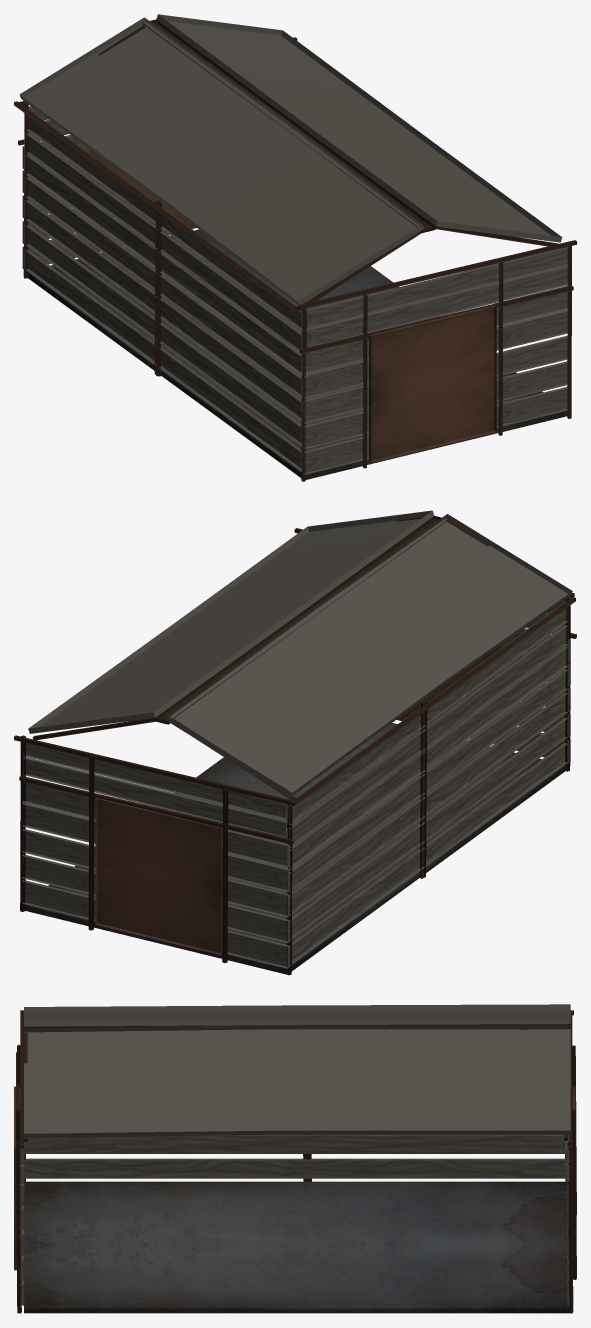
The model's file is 1_2_SHELL.fbx.
The picture shows the model from 3 angles, top to bottom: view 1: azimuth 30°, elevation 25°; view 2: azimuth 150°, elevation 25°; view 3: azimuth 270°, elevation 25°; orthographic projection. The views are drawn at different scales.
Visible parts, largest first — view 1: Roof1, Roof11, D0oor4, Flor, WoodPlank052, WoodPlank035, WoodPlank025, WoodPlank01, WoodPlank024, WoodPlank034, WoodPlank040, WoodPlank049 (+22 smaller); view 2: Roof1, Roof11, D0oor2, Flor, WoodPlank052, WoodPlank025, WoodPlank035, WoodPlank024, WoodPlank01, WoodPlank034, WoodPlank038, WoodPlank036 (+23 smaller); view 3: Flor, Roof11, WoodPlank01, Roof1, WoodPlank024, SupportBeam9, SupportBeam54, SupportBeam55, SupportBeam58, SupportBeam5, D0oor4, SupportBeam53.
Part boxes in pixels (left/top/right/bottom): Roof1: left=19, top=17, right=424, bottom=304; Roof11: left=156, top=14, right=562, bottom=242; D0oor4: left=369, top=305, right=496, bottom=462; Flor: left=28, top=229, right=567, bottom=479; WoodPlank052: left=24, top=176, right=302, bottom=398; WoodPlank035: left=24, top=132, right=302, bottom=354; WoodPlank025: left=24, top=200, right=302, bottom=421; WoodPlank01: left=24, top=250, right=301, bottom=471; WoodPlank024: left=24, top=225, right=301, bottom=446; WoodPlank034: left=24, top=154, right=302, bottom=375; WoodPlank040: left=306, top=247, right=567, bottom=329; WoodPlank049: left=306, top=266, right=567, bottom=347; Roof1: left=165, top=514, right=572, bottom=797; Roof11: left=28, top=510, right=434, bottom=733; D0oor2: left=95, top=797, right=222, bottom=955; Flor: left=22, top=723, right=565, bottom=974; WoodPlank052: left=286, top=669, right=568, bottom=892; WoodPlank025: left=286, top=692, right=568, bottom=915; WoodPlank035: left=286, top=625, right=568, bottom=848; WoodPlank024: left=289, top=717, right=568, bottom=940; WoodPlank01: left=289, top=743, right=568, bottom=965; WoodPlank034: left=286, top=647, right=568, bottom=869; WoodPlank038: left=23, top=757, right=286, bottom=837; WoodPlank036: left=286, top=602, right=568, bottom=825; Flor: left=24, top=1181, right=569, bottom=1313; Roof11: left=24, top=1025, right=570, bottom=1137; WoodPlank01: left=24, top=1158, right=565, bottom=1178; Roof1: left=24, top=1004, right=570, bottom=1026; WoodPlank024: left=24, top=1134, right=565, bottom=1153; SupportBeam9: left=27, top=1023, right=571, bottom=1032; SupportBeam54: left=16, top=1141, right=21, bottom=1313; SupportBeam55: left=567, top=1141, right=573, bottom=1313; SupportBeam58: left=572, top=1109, right=576, bottom=1279; SupportBeam5: left=20, top=1010, right=23, bottom=1148; D0oor4: left=14, top=1086, right=16, bottom=1270; SupportBeam53: left=568, top=1012, right=572, bottom=1150.
Bounding box in the file's own units: 450 × 352 × 798.
